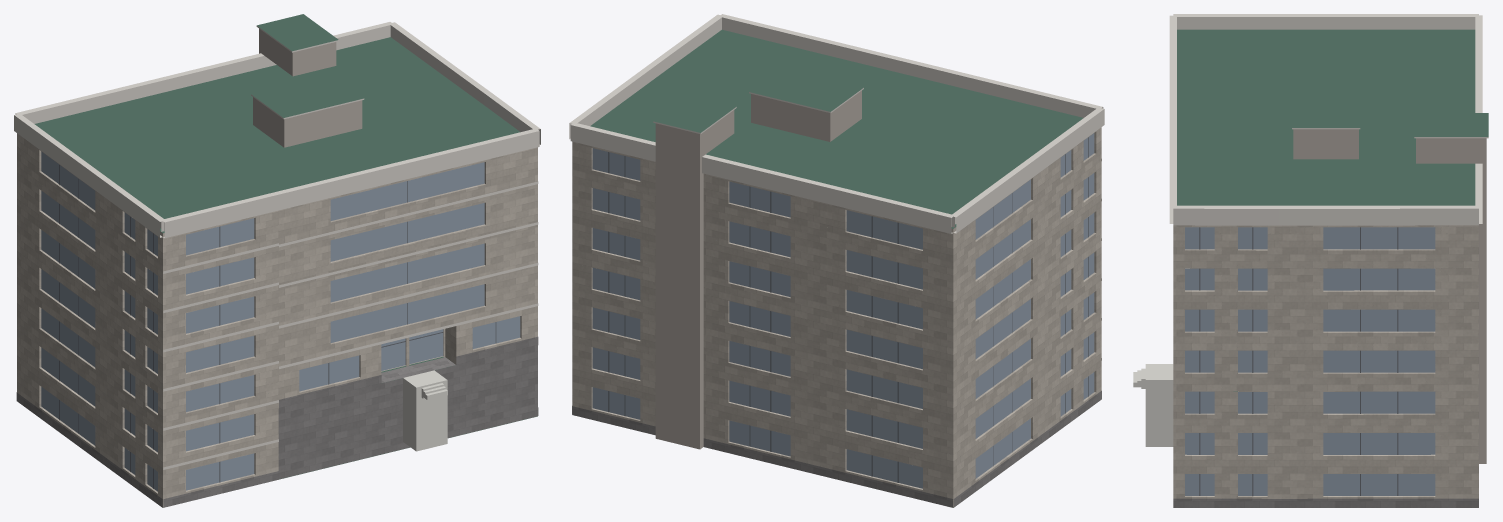
The picture shows the model from 3 angles, left to right: view 1: azimuth 30°, elevation 25°; view 2: azimuth 150°, elevation 25°; view 3: azimuth 270°, elevation 25°; orthographic projection. The views are drawn at different scales.
Parts seen in each view (by area): view 1: b16_1__wall, b16_1__roof, b16_1__glass, b16_1__trim, b16_1__base, b16_1__wall2, b16_1__entranceStair, b16_1__frame; view 2: b16_1__wall, b16_1__roof, b16_1__glass, b16_1__wall2, b16_1__trim, b16_1__base, b16_1__frame; view 3: b16_1__wall, b16_1__roof, b16_1__glass, b16_1__trim, b16_1__wall2, b16_1__base, b16_1__entranceStair, b16_1__frame.
Boxes of the visible parts, box(x1,y1,x2,y2) form: b16_1__wall: box(17, 133, 537, 507); b16_1__roof: box(34, 14, 537, 479); b16_1__glass: box(41, 151, 520, 491); b16_1__trim: box(14, 22, 540, 469); b16_1__base: box(16, 336, 538, 507); b16_1__wall2: box(253, 28, 362, 147); b16_1__entranceStair: box(403, 370, 447, 451); b16_1__frame: box(59, 165, 496, 488); b16_1__wall: box(572, 127, 1101, 507); b16_1__roof: box(590, 29, 1083, 507); b16_1__glass: box(592, 133, 1094, 488); b16_1__wall2: box(655, 90, 861, 449); b16_1__trim: box(569, 14, 1104, 360); b16_1__base: box(572, 391, 1101, 507); b16_1__frame: box(608, 137, 1088, 482); b16_1__wall: box(1173, 225, 1478, 498); b16_1__roof: box(1177, 29, 1488, 391); b16_1__glass: box(1185, 227, 1435, 495); b16_1__trim: box(1169, 14, 1488, 225); b16_1__wall2: box(1293, 129, 1486, 463); b16_1__base: box(1173, 498, 1478, 507); b16_1__entranceStair: box(1133, 364, 1173, 446); b16_1__frame: box(1199, 227, 1398, 496).
Bounding box in the file's own units: 36.62 × 28.73 × 28.2.
9 materials, 2 textured.
